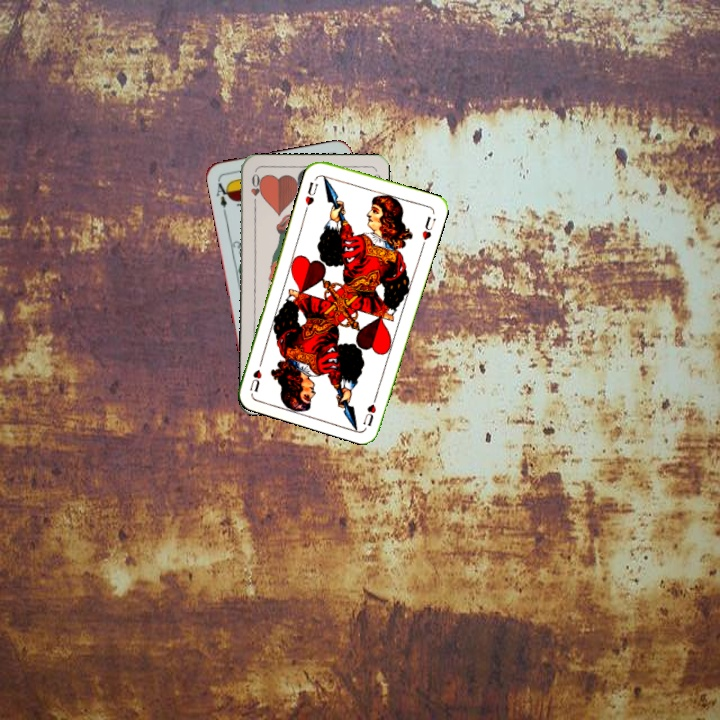EA: (212, 176, 233, 210)
HO: (247, 170, 263, 210)
HU: (359, 389, 380, 429), (301, 178, 321, 208)
